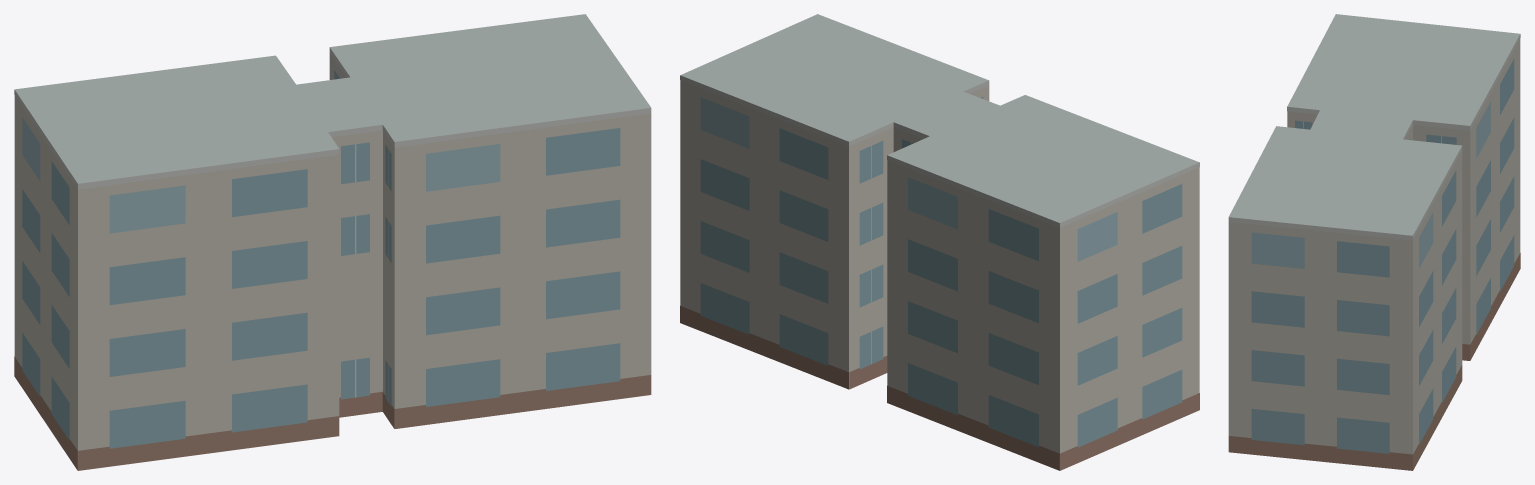
Rendered from survey-upis-32665940.glb.
3 views of the same model, side by side, from view 1: azimuth 30°, elevation 25°; view 2: azimuth 150°, elevation 25°; view 3: azimuth 270°, elevation 25° (orthographic). The views are drawn at different scales.
Parts seen in each view (by area): view 1: survey-upis-32665940.tmp; view 2: survey-upis-32665940.tmp; view 3: survey-upis-32665940.tmp.
Part boxes in pixels (<box>): survey-upis-32665940.tmp: <box>14,14,651,470</box>; survey-upis-32665940.tmp: <box>680,14,1199,470</box>; survey-upis-32665940.tmp: <box>1228,14,1520,470</box>.
Bounding box in the file's own units: 25.3 × 12.5 × 14.07.
